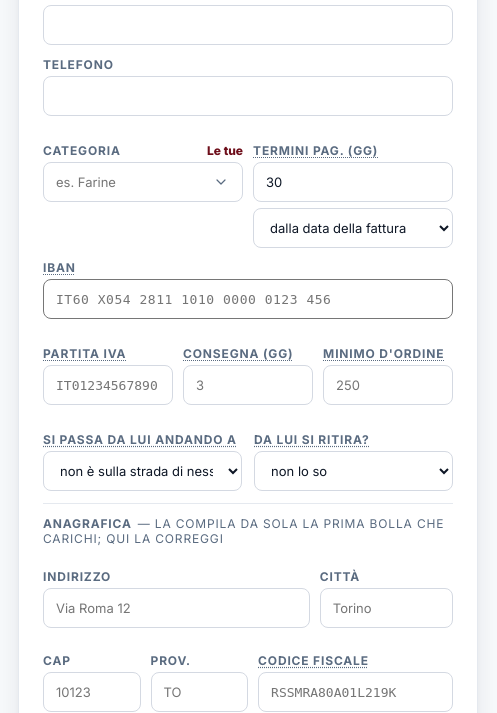
Partita IVA / Consegna / Minimo d’ordine › accorciando non si è perso il significato
(page scrolled)
Check: the field named "Giorni di consegna" is shown, box [183, 365, 313, 405]
Hover over the button "Consegna (gg)": point(238, 354) [183, 346, 293, 361]
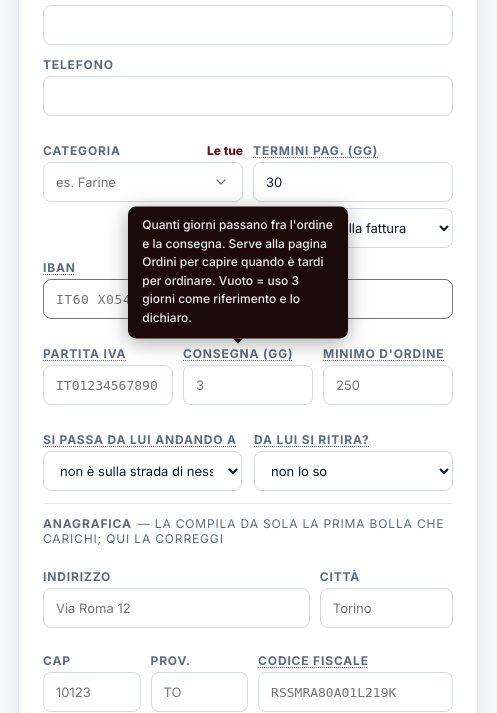
Check: the text "Quanti giorni passano fra l'ordine e la consegna" is shown, box [142, 217, 333, 325]
